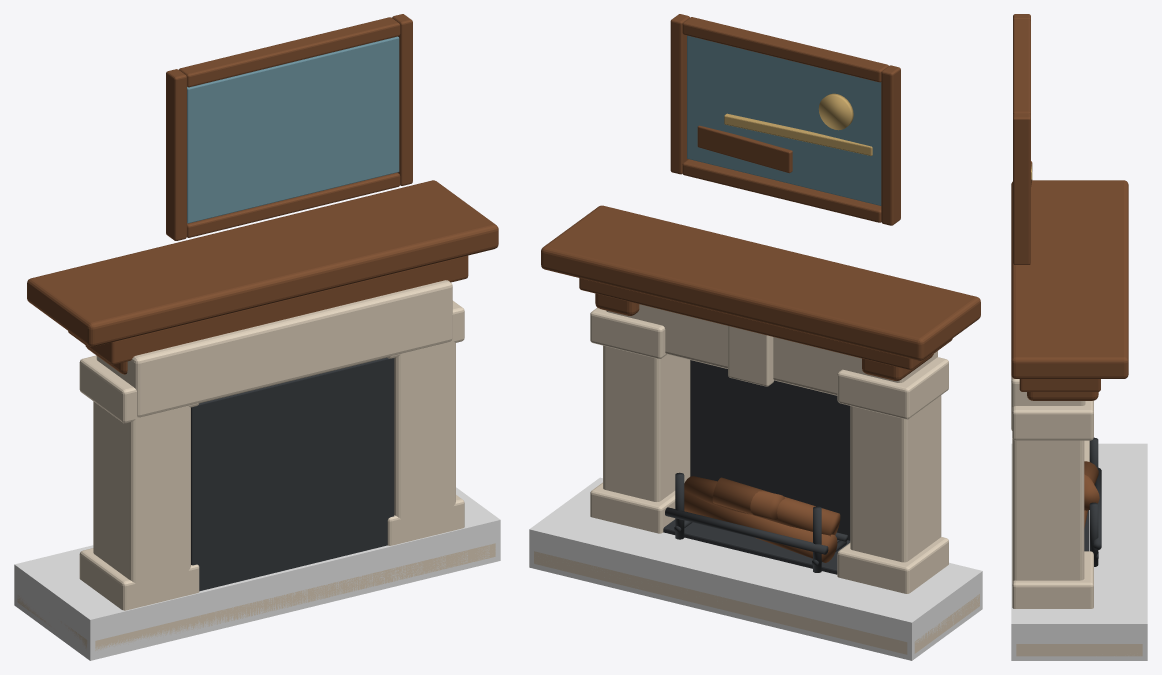
Rendered from living_fireplace.glb.
3 views of the same model, side by side, from view 1: azimuth 30°, elevation 25°; view 2: azimuth 150°, elevation 25°; view 3: azimuth 270°, elevation 25° (orthographic). The views are drawn at different scales.
Parts seen in each view (by area): view 1: living_fireplace_003_firebox_back, living_fireplace_016_walnut_mantel, living_fireplace_026_overmantel_canvas, living_fireplace_COL, living_fireplace_013_stone_lintel, living_fireplace_005_stone_jamb_-1, living_fireplace_009_stone_jamb_1, living_fireplace_015_walnut_frieze, living_fireplace_001_hearth_base, living_fireplace_030_art_frame_horizontal_1, living_fireplace_006_jamb_plinth_-1, living_fireplace_027_art_frame_vertical_-1 (+4 smaller); view 2: living_fireplace_016_walnut_mantel, living_fireplace_COL, living_fireplace_026_overmantel_canvas, living_fireplace_003_firebox_back, living_fireplace_005_stone_jamb_-1, living_fireplace_009_stone_jamb_1, living_fireplace_013_stone_lintel, living_fireplace_001_hearth_base, living_fireplace_015_walnut_frieze, living_fireplace_007_jamb_cap_-1, living_fireplace_030_art_frame_horizontal_1, living_fireplace_006_jamb_plinth_-1 (+15 smaller); view 3: living_fireplace_016_walnut_mantel, living_fireplace_COL, living_fireplace_009_stone_jamb_1, living_fireplace_011_jamb_cap_1, living_fireplace_029_art_frame_vertical_1, living_fireplace_010_jamb_plinth_1, living_fireplace_030_art_frame_horizontal_1, living_fireplace_001_hearth_base, living_fireplace_015_walnut_frieze, living_fireplace_013_stone_lintel, living_fireplace_012_walnut_corbel_1, living_fireplace_021_andiron_post_1 (+4 smaller).
Boxes of the visible parts, left/top/right/bottom form: living_fireplace_003_firebox_back: left=191, top=357, right=394, bottom=591; living_fireplace_016_walnut_mantel: left=27, top=180, right=498, bottom=346; living_fireplace_026_overmantel_canvas: left=187, top=36, right=399, bottom=223; living_fireplace_COL: left=14, top=487, right=500, bottom=660; living_fireplace_013_stone_lintel: left=96, top=280, right=452, bottom=417; living_fireplace_005_stone_jamb_-1: left=93, top=401, right=190, bottom=583; living_fireplace_009_stone_jamb_1: left=394, top=325, right=455, bottom=543; living_fireplace_015_walnut_frieze: left=68, top=255, right=468, bottom=364; living_fireplace_001_hearth_base: left=17, top=543, right=495, bottom=650; living_fireplace_030_art_frame_horizontal_1: left=179, top=17, right=400, bottom=87; living_fireplace_006_jamb_plinth_-1: left=79, top=548, right=199, bottom=610; living_fireplace_027_art_frame_vertical_-1: left=166, top=69, right=186, bottom=240; living_fireplace_016_walnut_mantel: left=541, top=205, right=980, bottom=360; living_fireplace_COL: left=529, top=477, right=982, bottom=660; living_fireplace_026_overmantel_canvas: left=687, top=35, right=881, bottom=205; living_fireplace_003_firebox_back: left=690, top=360, right=850, bottom=540; living_fireplace_005_stone_jamb_-1: left=850, top=395, right=941, bottom=562; living_fireplace_009_stone_jamb_1: left=603, top=345, right=690, bottom=501; living_fireplace_013_stone_lintel: left=606, top=304, right=937, bottom=395; living_fireplace_001_hearth_base: left=534, top=551, right=979, bottom=654; living_fireplace_015_walnut_frieze: left=579, top=278, right=952, bottom=369; living_fireplace_007_jamb_cap_-1: left=837, top=357, right=948, bottom=419; living_fireplace_030_art_frame_horizontal_1: left=682, top=17, right=888, bottom=82; living_fireplace_006_jamb_plinth_-1: left=837, top=537, right=948, bottom=593; living_fireplace_016_walnut_mantel: left=1011, top=180, right=1128, bottom=378; living_fireplace_COL: left=1011, top=443, right=1147, bottom=660; living_fireplace_009_stone_jamb_1: left=1012, top=438, right=1084, bottom=581; living_fireplace_011_jamb_cap_1: left=1012, top=400, right=1093, bottom=440; living_fireplace_029_art_frame_vertical_1: left=1013, top=113, right=1030, bottom=264; living_fireplace_010_jamb_plinth_1: left=1012, top=551, right=1093, bottom=608; living_fireplace_030_art_frame_horizontal_1: left=1013, top=19, right=1030, bottom=114; living_fireplace_001_hearth_base: left=1016, top=644, right=1142, bottom=656; living_fireplace_015_walnut_frieze: left=1019, top=379, right=1100, bottom=391; living_fireplace_013_stone_lintel: left=1011, top=376, right=1085, bottom=430; living_fireplace_012_walnut_corbel_1: left=1027, top=392, right=1098, bottom=400; living_fireplace_021_andiron_post_1: left=1089, top=502, right=1098, bottom=566.
Bounding box in the file's own units: 1.78 × 2.33 × 0.57.
